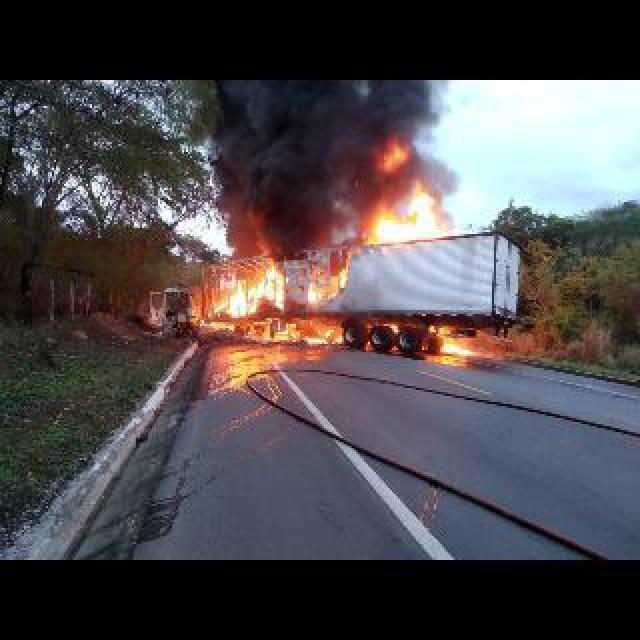fire: (370, 182, 446, 246), (206, 264, 282, 316), (306, 270, 350, 302), (382, 144, 408, 170), (304, 328, 340, 344), (272, 322, 300, 338), (198, 318, 234, 330), (440, 344, 472, 354)
smoke: (194, 100, 366, 262), (402, 80, 498, 192)
